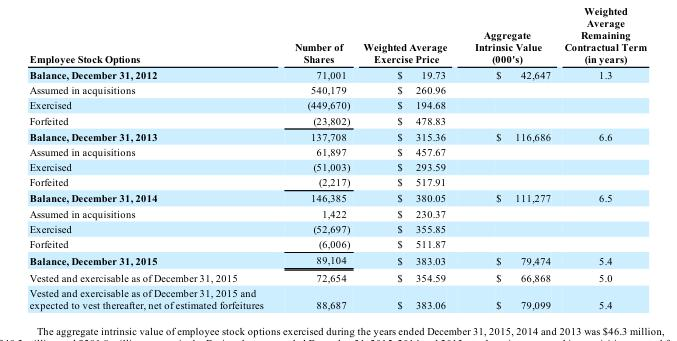table: (28, 28, 646, 310)
table column: (28, 28, 278, 310), (356, 28, 460, 310), (460, 28, 556, 310), (556, 28, 646, 310), (278, 28, 356, 310)
table column header: (28, 28, 646, 66)
table row: (28, 28, 646, 66), (28, 284, 646, 310), (28, 251, 646, 268), (28, 66, 646, 82), (28, 112, 646, 128), (28, 158, 646, 174), (28, 189, 646, 205), (28, 235, 646, 251), (28, 268, 646, 284), (28, 82, 646, 97), (28, 97, 646, 112), (28, 128, 646, 143), (28, 143, 646, 158), (28, 174, 646, 189), (28, 205, 646, 220), (28, 220, 646, 235)
